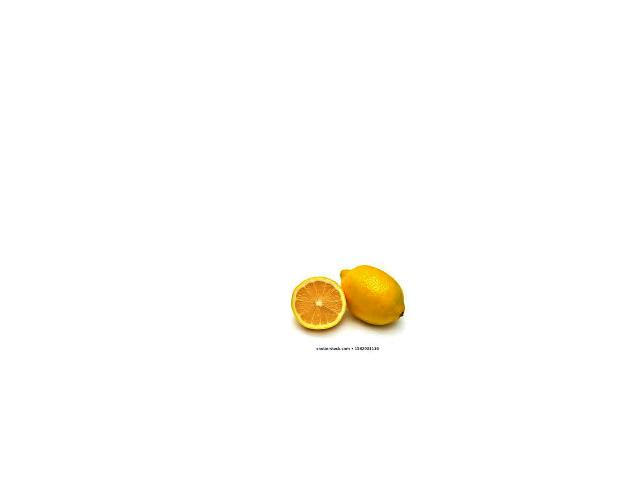lemon: (339, 265, 410, 327)
